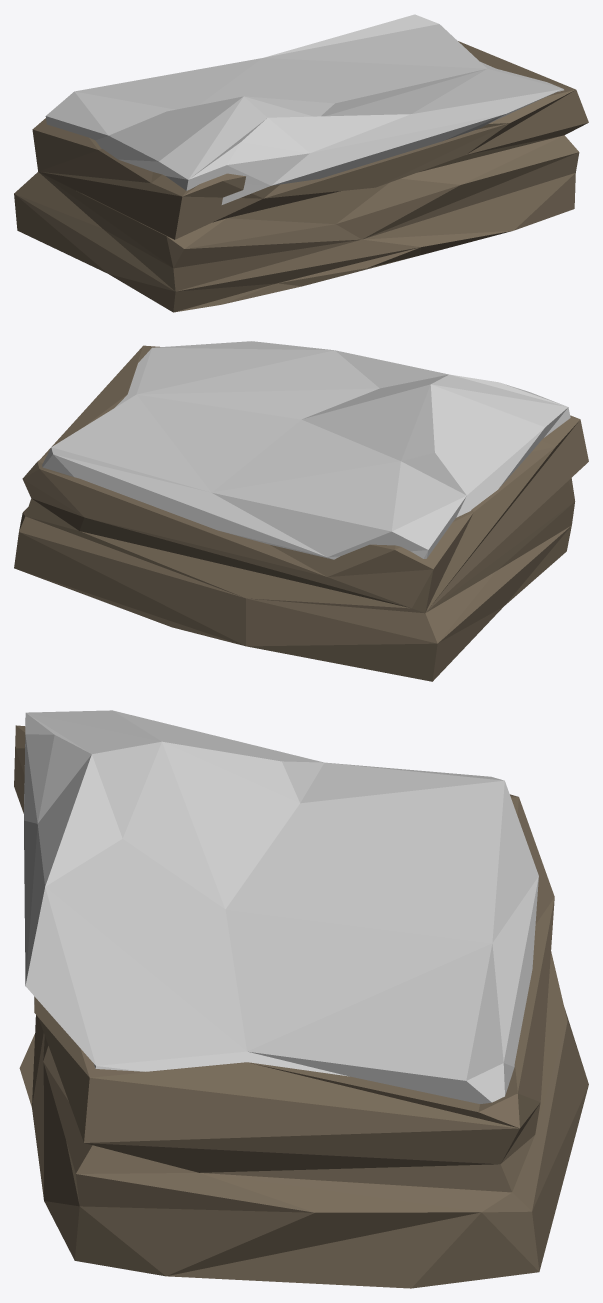
Rendered from Stone_6_snow_brown_vc.fbx.
3 views of the same model, one above another, from view 1: azimuth 30°, elevation 25°; view 2: azimuth 150°, elevation 25°; view 3: azimuth 270°, elevation 25° (orthographic). The views are drawn at different scales.
Visible parts, largest first — view 1: Stone_6_snow_brown_vc; view 2: Stone_6_snow_brown_vc; view 3: Stone_6_snow_brown_vc.
Part boxes in pixels (bbox=[...]): Stone_6_snow_brown_vc: bbox=[14, 14, 588, 312]; Stone_6_snow_brown_vc: bbox=[14, 341, 588, 681]; Stone_6_snow_brown_vc: bbox=[14, 710, 588, 1288].
Bounding box in the file's own units: 243 × 100 × 167.
